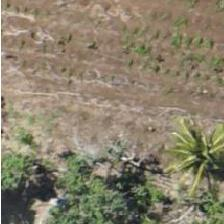coconut_tree: (139, 95, 223, 185)
